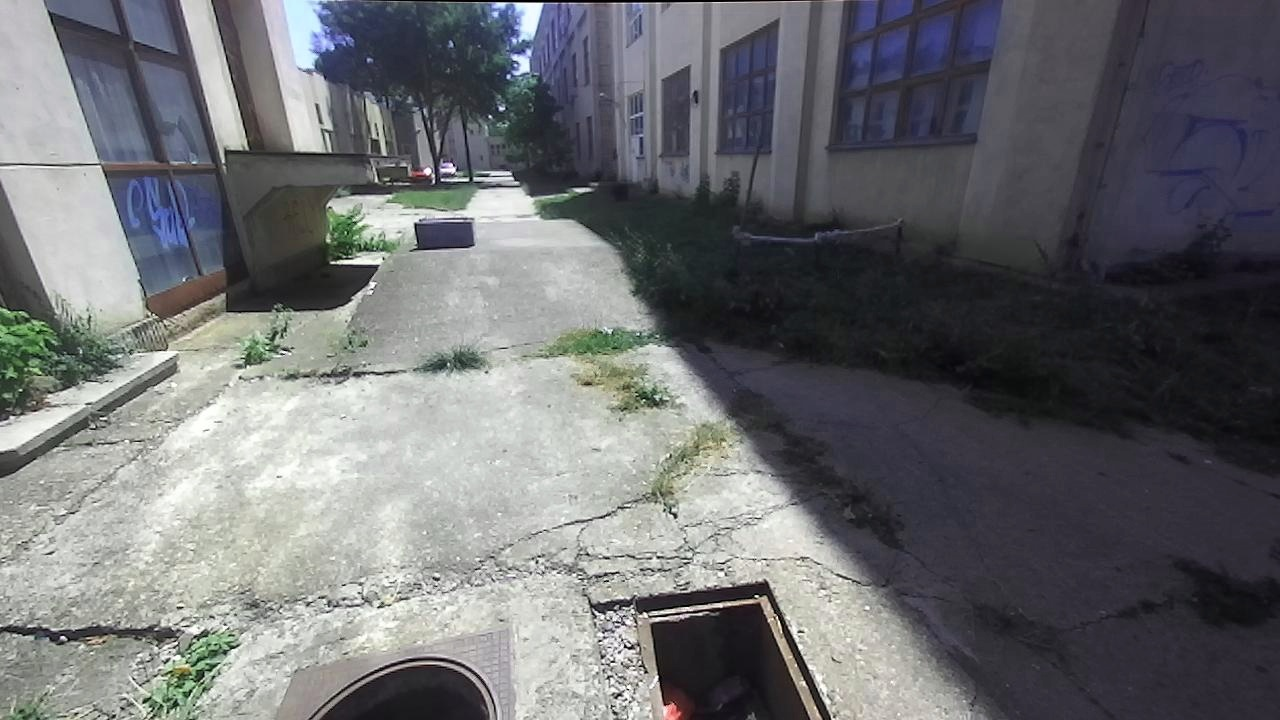drain: (629, 579, 841, 718), (308, 645, 508, 719)
